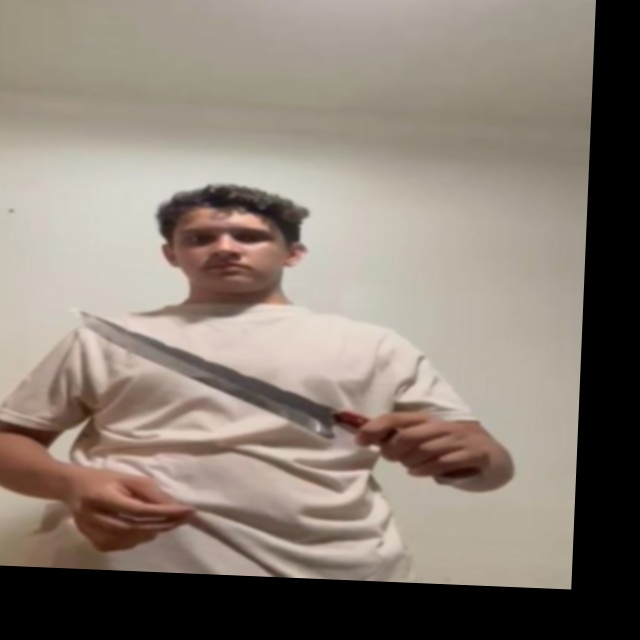Sharp-Object: (64, 309, 336, 431)
